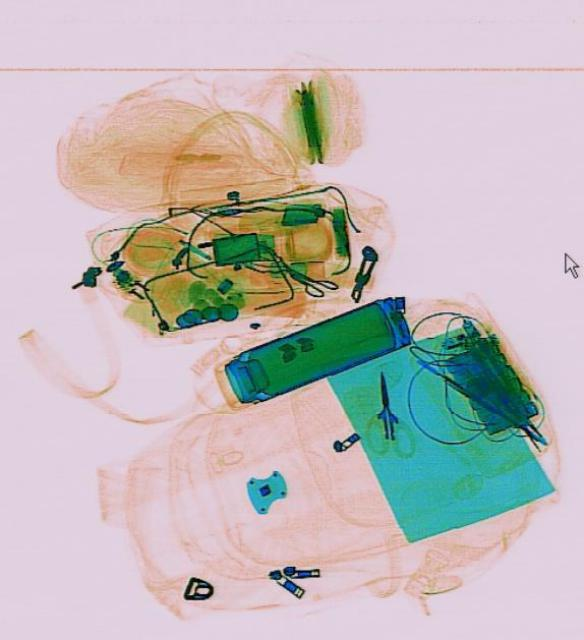Knife: (368, 368, 396, 440)
